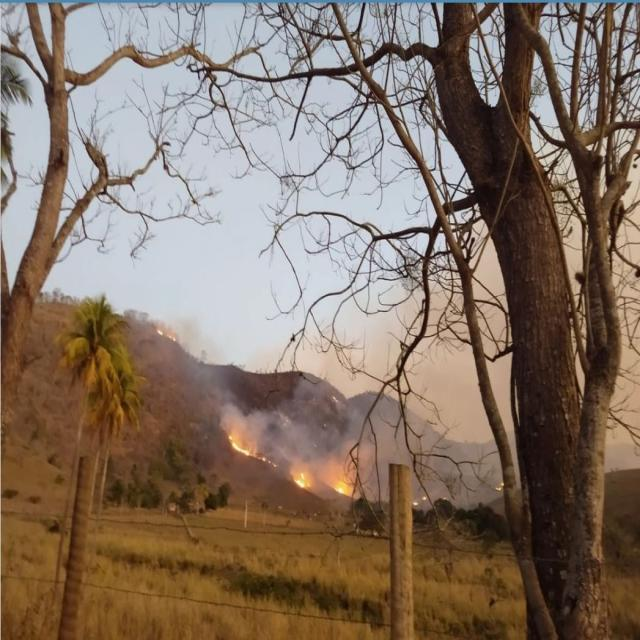Fire: (228, 435, 250, 457), (291, 473, 312, 488), (334, 479, 350, 495), (258, 457, 276, 467), (413, 497, 428, 507), (167, 334, 176, 342), (496, 482, 504, 490), (156, 329, 164, 336), (332, 395, 338, 403)
Smoke: (258, 409, 348, 456), (220, 403, 283, 436), (290, 375, 332, 408), (312, 457, 334, 496), (178, 317, 200, 353), (376, 422, 389, 472)
